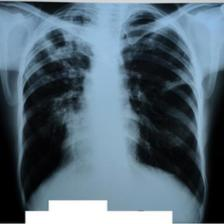tuberculosis: (14, 4, 207, 224)
